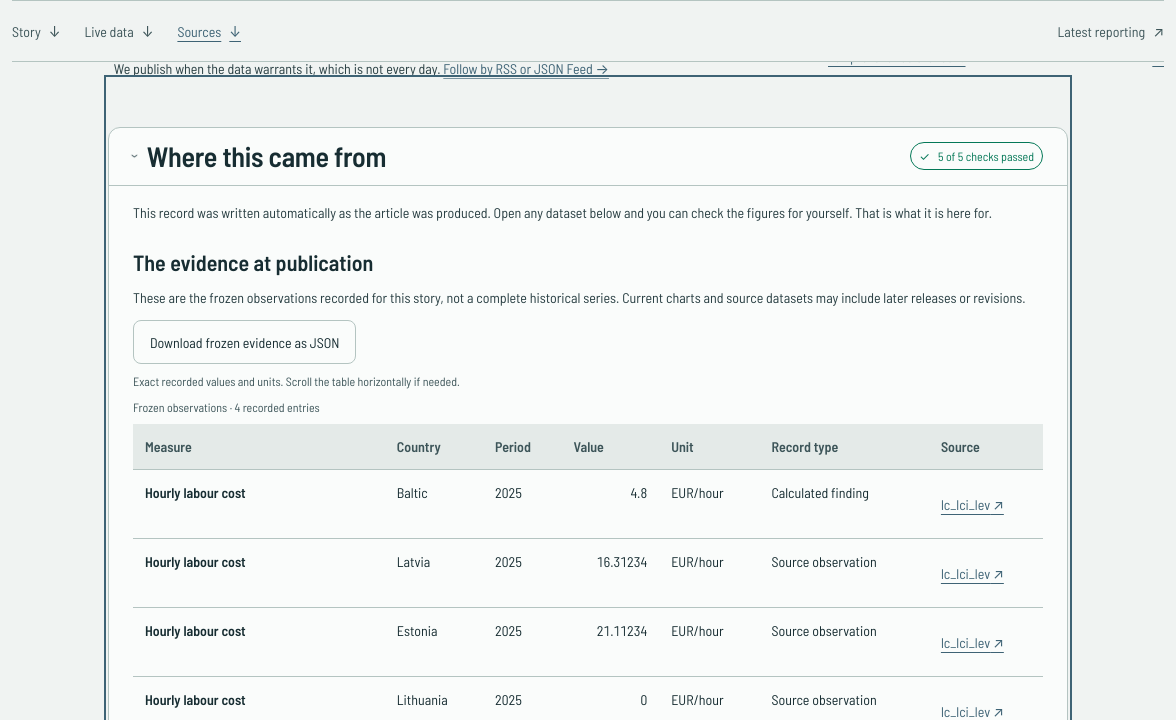
Scenario: the frozen publication record › keeps the table usable and announces a browser download failure
(page scrolled)
Click the button "Download frozen evidence as JSON" at (245, 342), box [133,320,356,364]
(page scrolled)
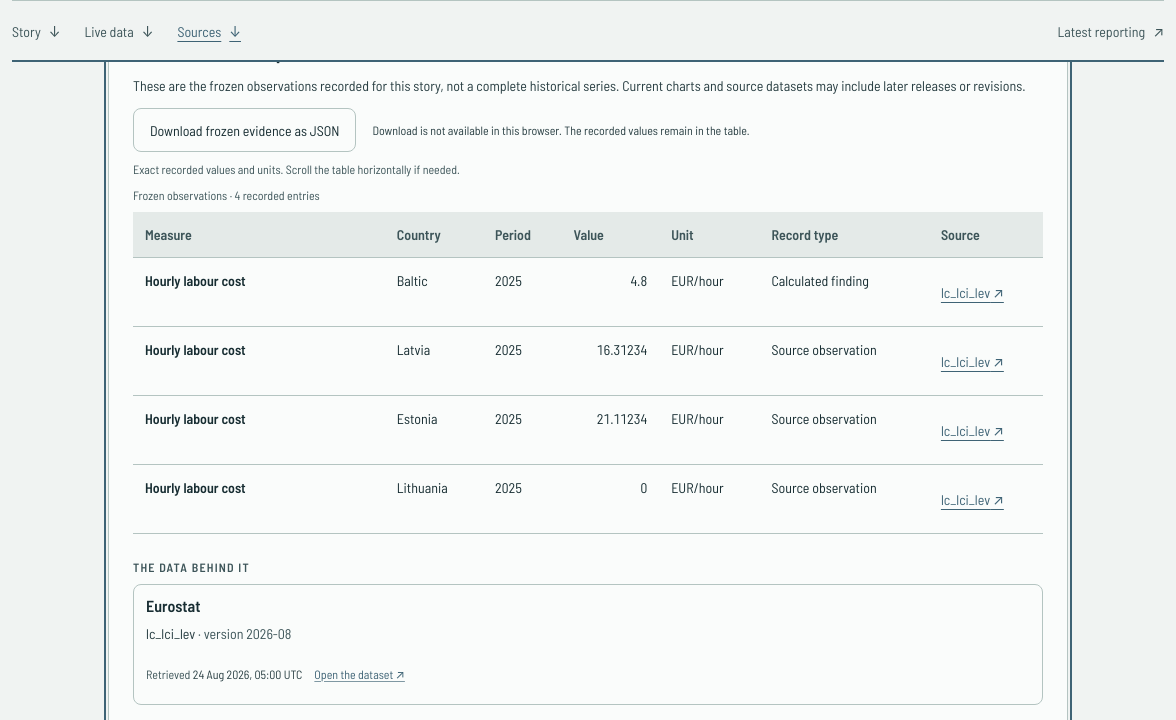
Expected: the table "Frozen observations" is shown, [133,186,1043,534]
Expected: the message with test id "frozen-download-status" shows "Download is not available in this browser", [372,123,750,137]
